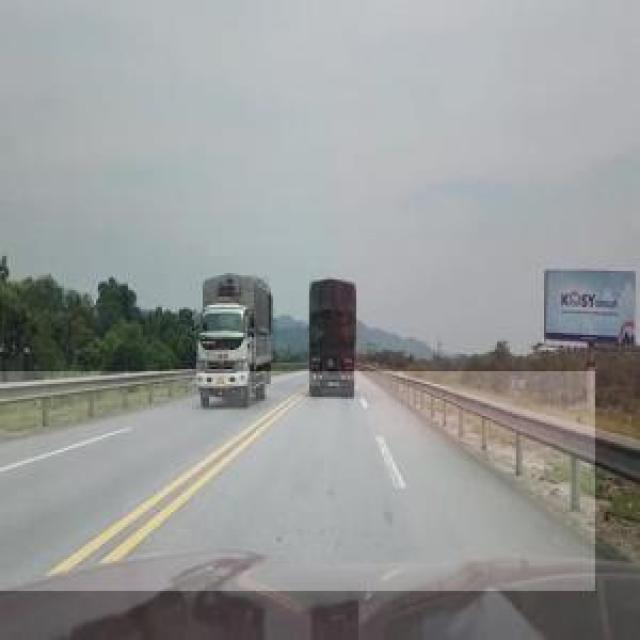clear-road: (0, 373, 595, 591)
